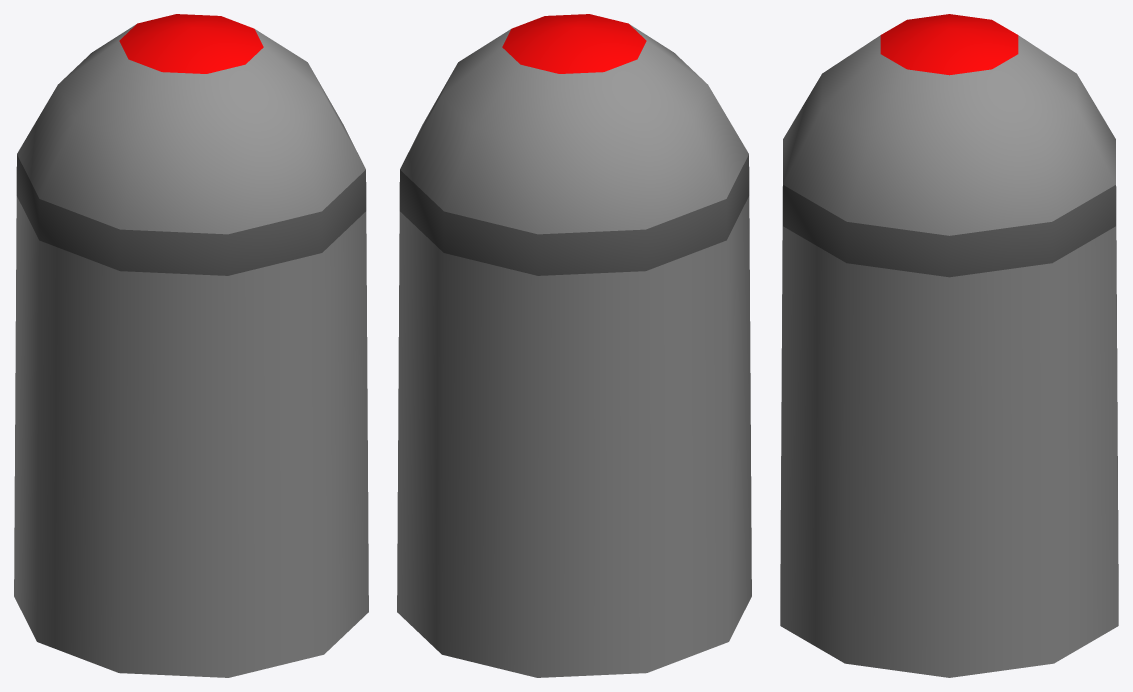
The model's file is RocketAmmo.fbx.
The picture shows the model from 3 angles, left to right: view 1: azimuth 30°, elevation 25°; view 2: azimuth 150°, elevation 25°; view 3: azimuth 270°, elevation 25°; orthographic projection.
Parts seen in each view (by area): view 1: Capsule; view 2: Capsule; view 3: Capsule.
Part boxes in pixels (bbox=[...]): Capsule: bbox=[14, 14, 368, 677]; Capsule: bbox=[397, 14, 751, 677]; Capsule: bbox=[780, 14, 1118, 677].
Bounding box in the file's own units: 93.9 × 168 × 89.3.
